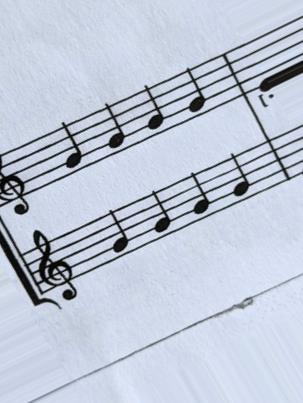note: (49, 118, 90, 172), (181, 64, 219, 117), (98, 98, 135, 151), (146, 188, 186, 236), (103, 208, 142, 256), (183, 171, 221, 218), (140, 82, 170, 137), (226, 152, 260, 200)
